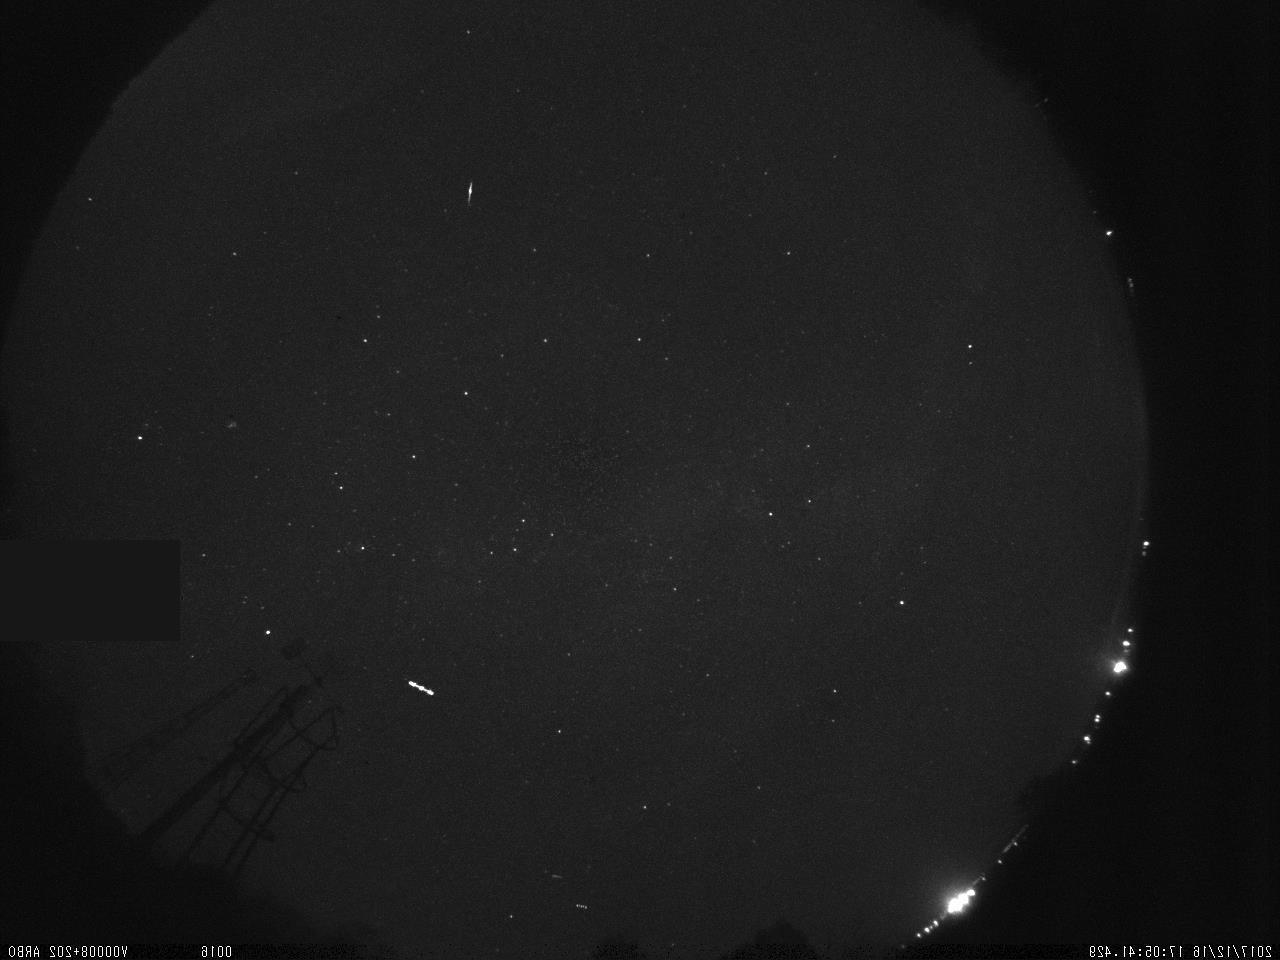meteor: (460, 172, 478, 211)
satelite: (400, 671, 441, 704)
